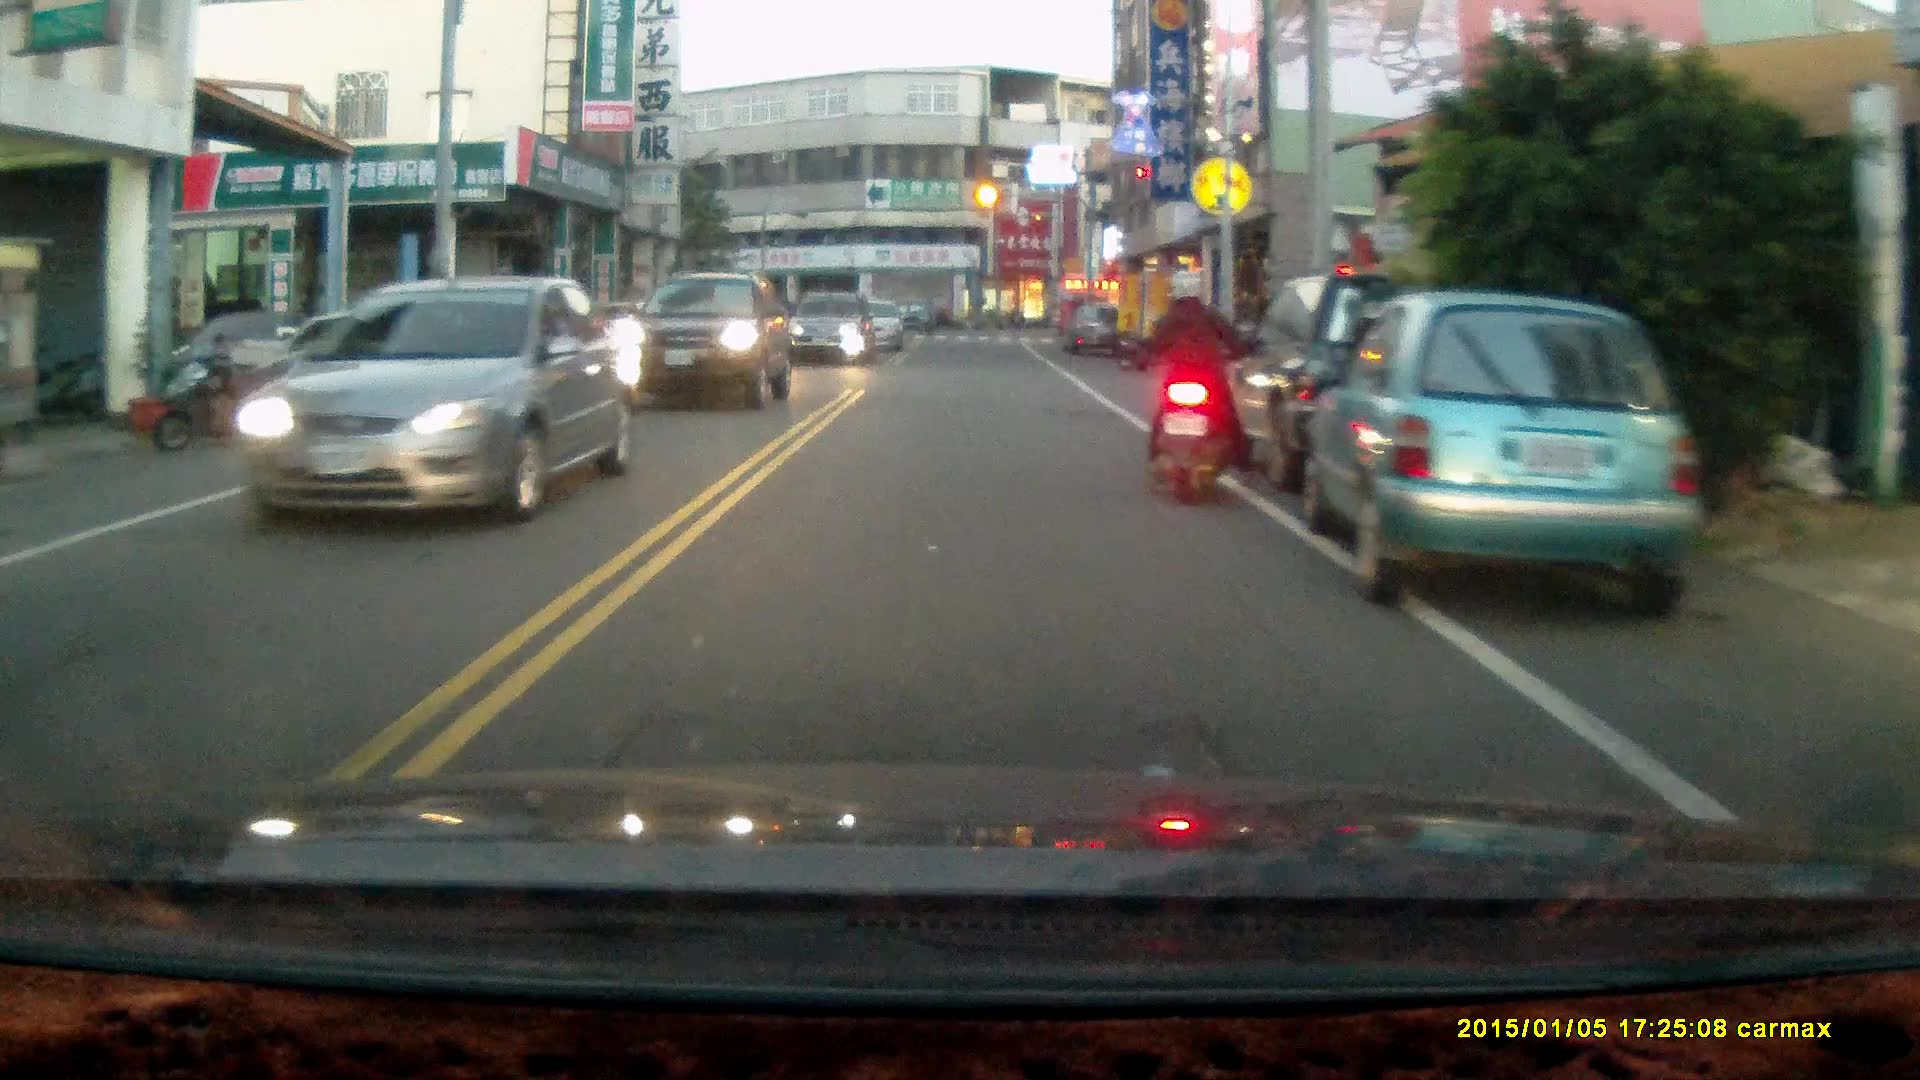rider: (1144, 267, 1252, 504)
vehicle: (1302, 292, 1708, 624), (236, 274, 635, 529), (1195, 269, 1531, 494), (251, 308, 467, 426), (620, 270, 799, 410), (785, 293, 879, 364), (1061, 299, 1130, 356)
